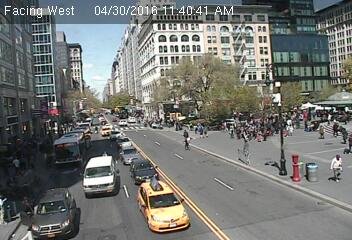neg: (169, 92, 182, 108), (151, 115, 161, 129), (182, 127, 189, 135)
pos: (324, 152, 348, 184), (8, 155, 23, 175), (338, 126, 351, 144), (329, 119, 342, 137), (316, 123, 329, 140), (283, 117, 296, 134), (195, 122, 206, 137), (181, 135, 192, 150), (202, 124, 211, 136)
